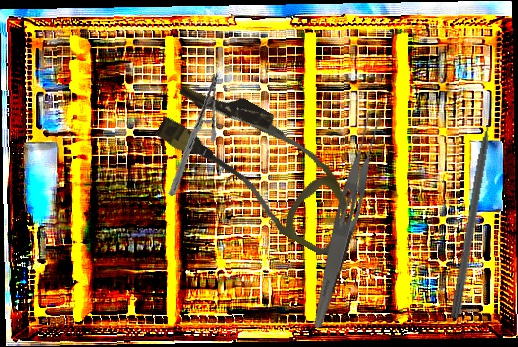Cannula: (142, 69, 376, 259)
Dressing Forceps: (308, 109, 387, 332)
Needle Holder: (151, 72, 237, 197)
Pusher: (449, 96, 501, 320)
